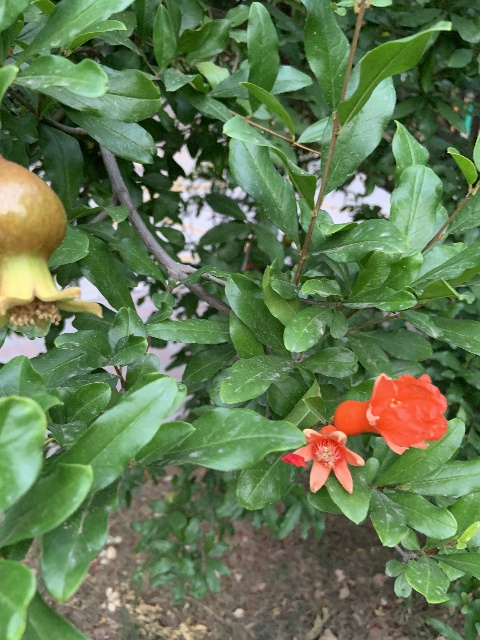early-fruit: (0, 152, 103, 337)
flower: (332, 372, 448, 454), (281, 424, 363, 493)
